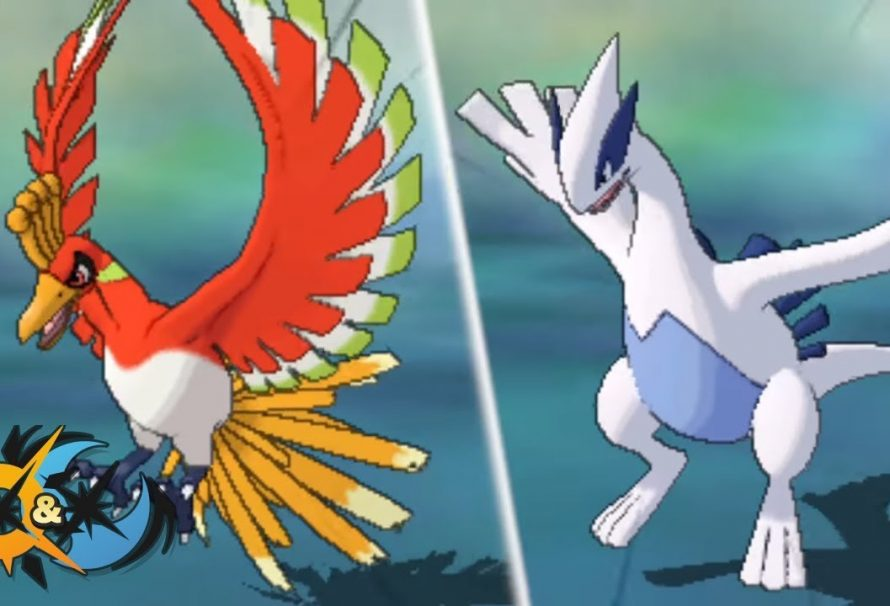lugia: (545, 31, 652, 216)
